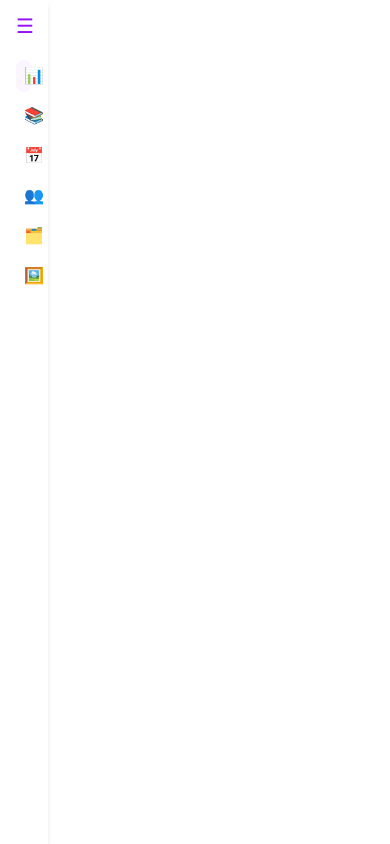
Test case: AdminSidebar › toggle button expands sidebar
Click the button named "expand navigation" at (25, 26), box [16,16,34,36]
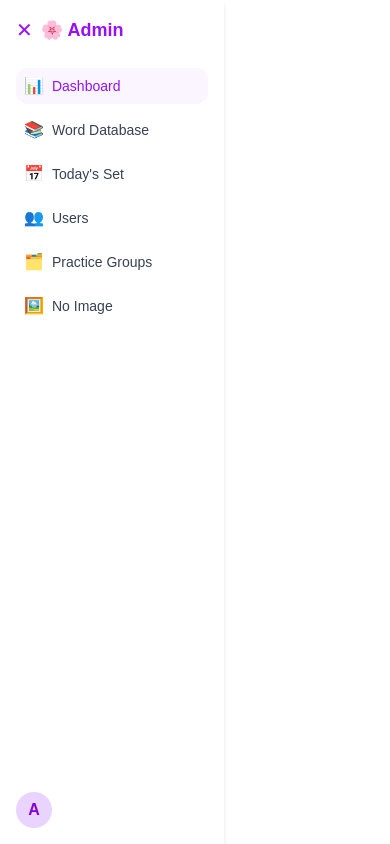
Expected: the button named "collapse navigation" is shown, [16,20,33,40]
